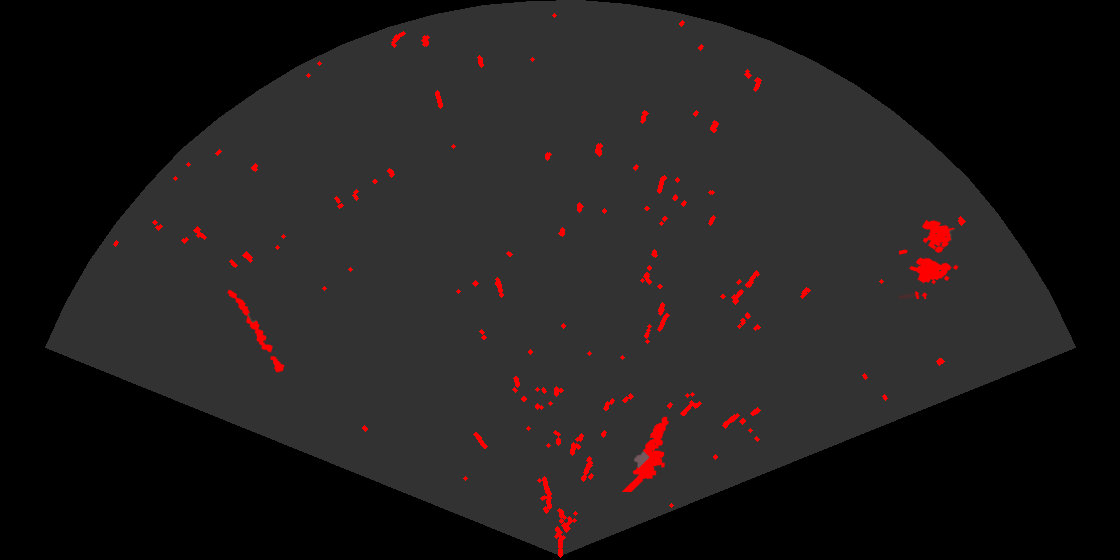cage: (899, 218, 960, 299)
chain: (226, 288, 286, 374)
frogman: (620, 415, 670, 492)
